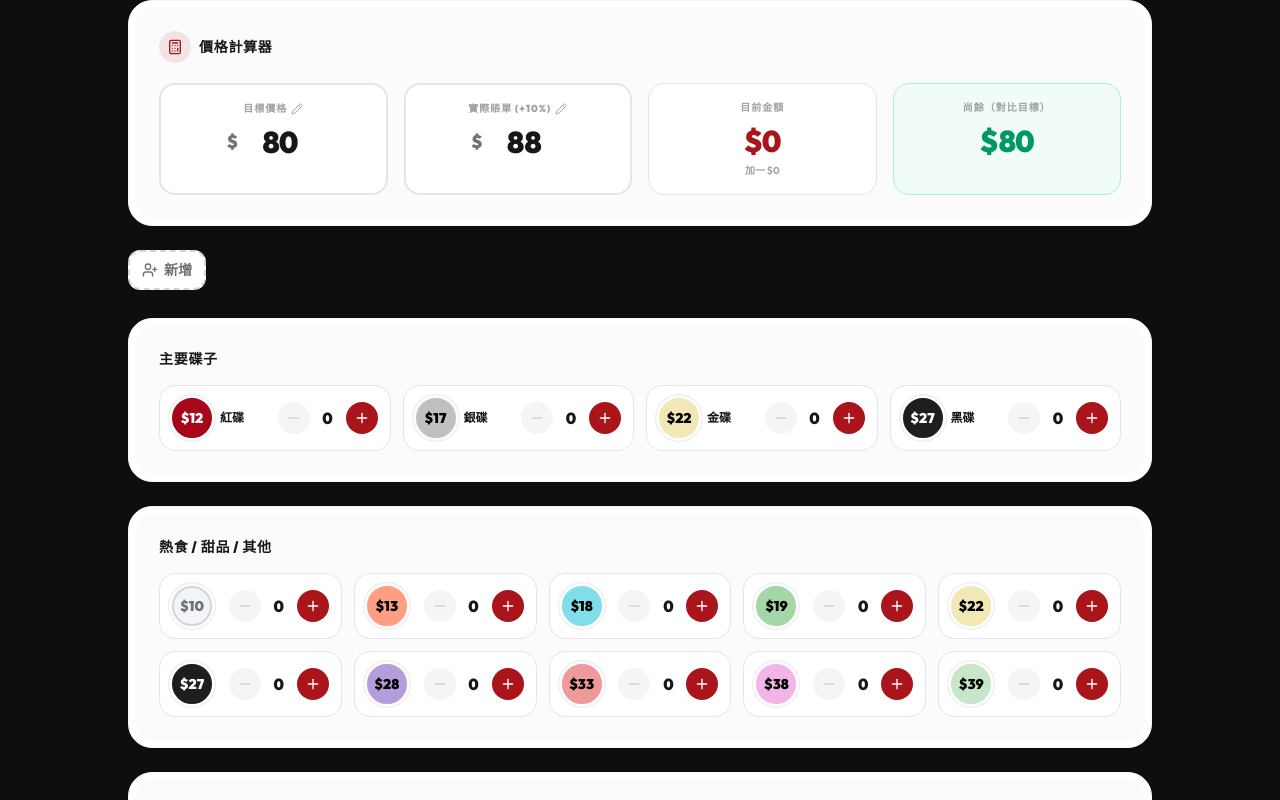
Test: FareCalculator › shows 總額 (含服務費) label in the total bar
Click the button named "增加 12 數量" at (362, 418), box [346,402,378,434]
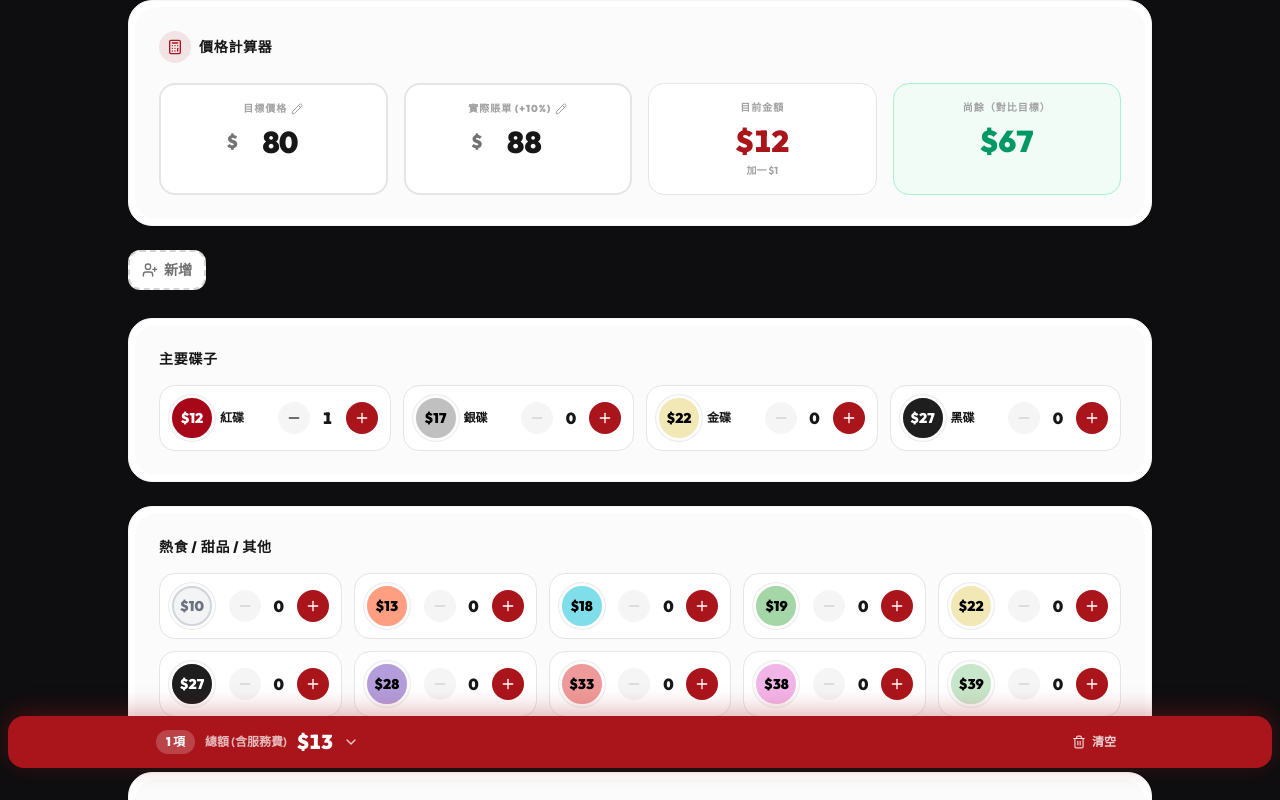
Expected: the text "總額 (含服務費)" is shown, [205,734,287,750]
